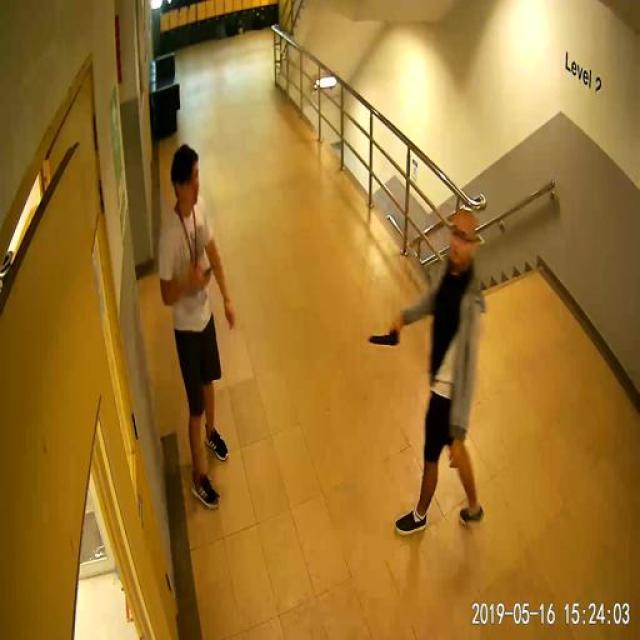Gun: (363, 323, 405, 358)
